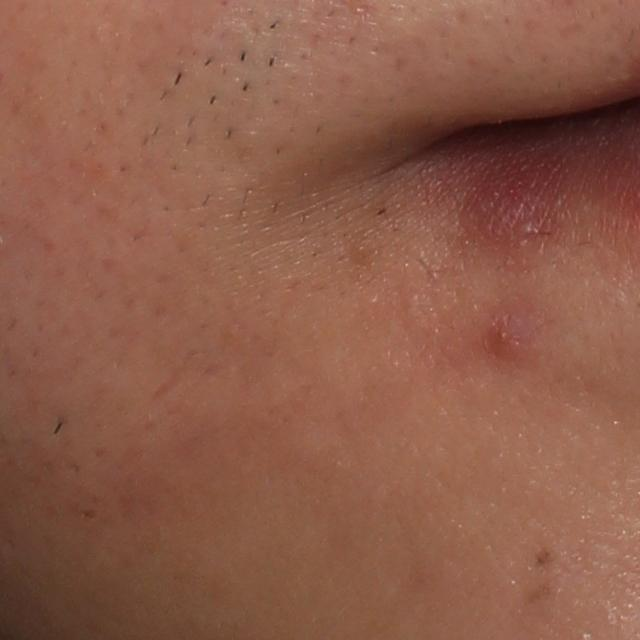papule: (458, 191, 549, 252), (485, 315, 527, 358)
